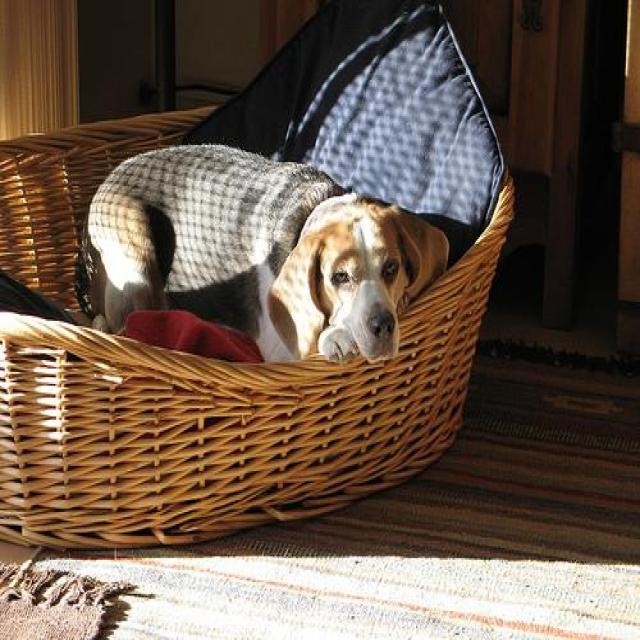beagle: (77, 140, 449, 374)
